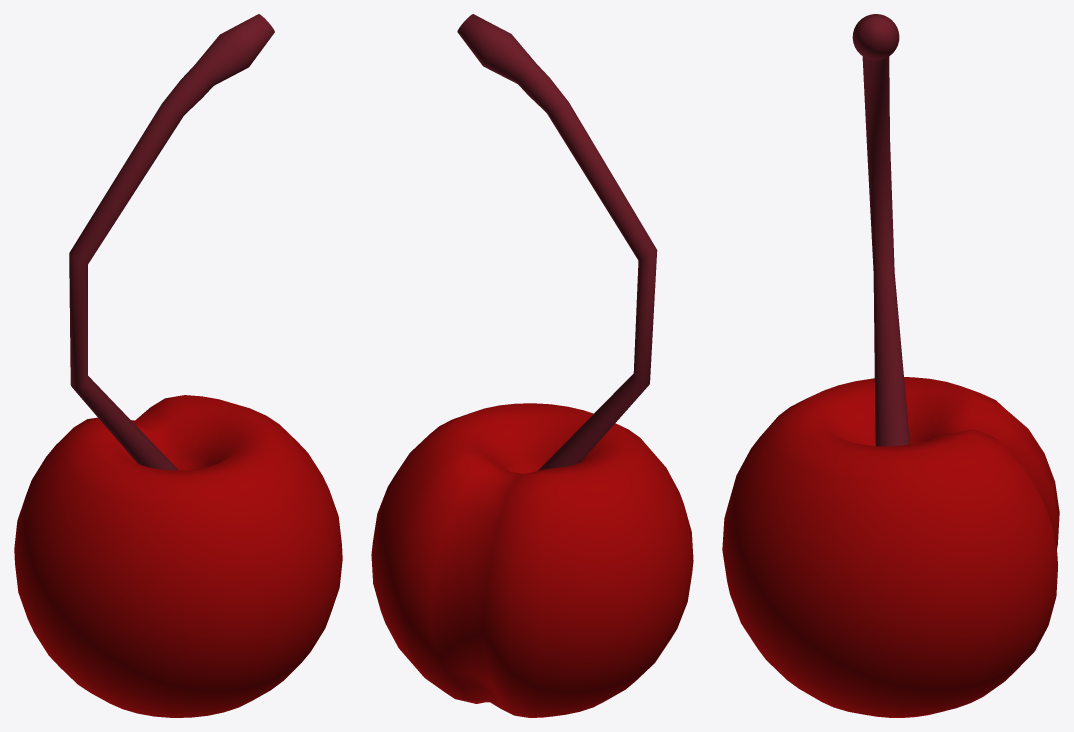
The model's file is cherry.glb.
The picture shows the model from 3 angles, left to right: view 1: azimuth 30°, elevation 25°; view 2: azimuth 150°, elevation 25°; view 3: azimuth 270°, elevation 25°; orthographic projection. The views are drawn at different scales.
Visible parts, largest first — view 1: サクランボ; view 2: サクランボ; view 3: サクランボ.
Boxes of the visible parts, x1,y1,x2,y2 form: サクランボ: (14, 14, 342, 717); サクランボ: (371, 14, 693, 717); サクランボ: (722, 14, 1059, 717).
Size of the model in its own units: 0.3375 by 0.7555 by 0.3252.
